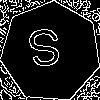S: (25, 27, 65, 77)
